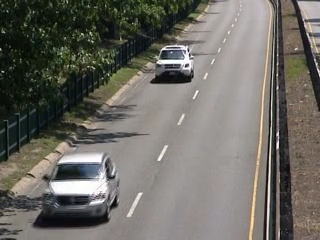car: (38, 148, 124, 224), (149, 41, 200, 85)
